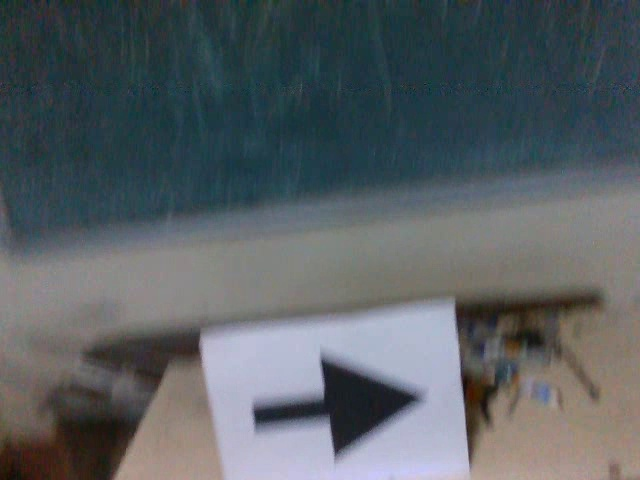Right: (242, 349, 427, 466)
